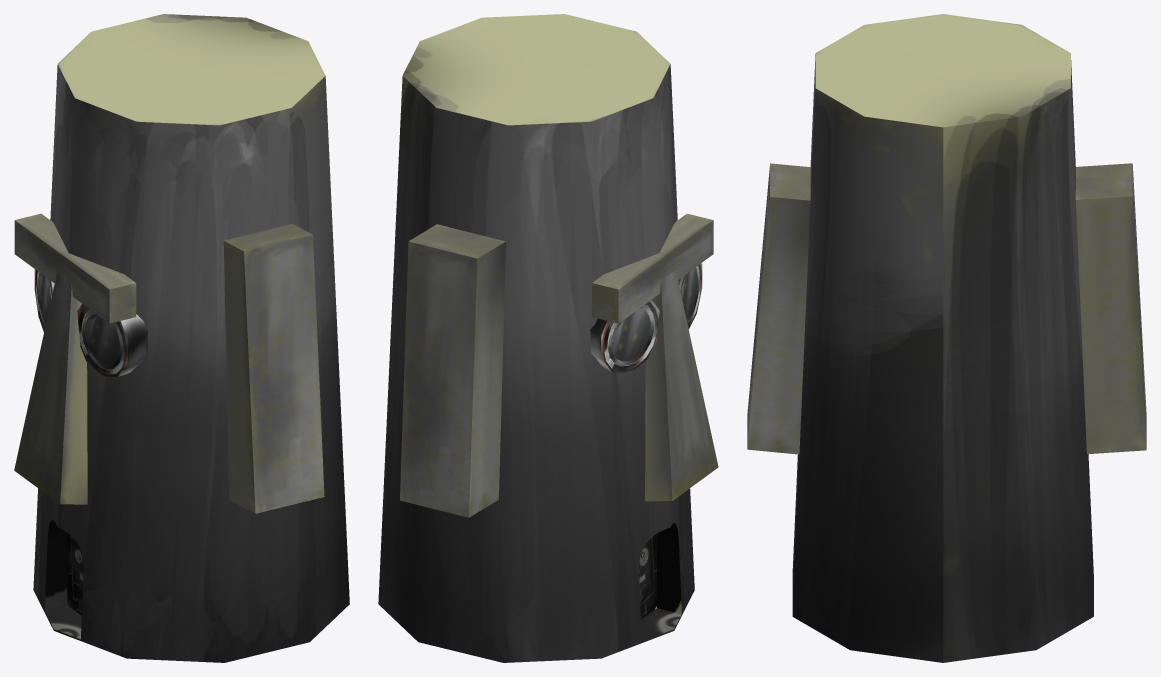
Rendered from 章魚歌的家的模型被拿來當作牆壁.FBX.
The picture shows the model from 3 angles, left to right: view 1: azimuth 30°, elevation 25°; view 2: azimuth 150°, elevation 25°; view 3: azimuth 270°, elevation 25°; orthographic projection.
Parts seen in each view (by area): view 1: Cylinder001, Box002, Box001, Box003, Cylinder002, Cylinder003; view 2: Cylinder001, Box004, Box001, Box003, Cylinder003, Cylinder002; view 3: Cylinder001, Box004, Box002.
Boxes of the visible parts, x1=… form: Cylinder001: x1=33, y1=14, x2=349, y2=662; Box002: x1=223, y1=223, x2=324, y2=513; Box001: x1=14, y1=274, x2=87, y2=504; Box003: x1=14, y1=213, x2=136, y2=323; Cylinder002: x1=77, y1=304, x2=147, y2=376; Cylinder003: x1=34, y1=269, x2=54, y2=331; Cylinder001: x1=378, y1=14, x2=694, y2=662; Box004: x1=400, y1=224, x2=505, y2=517; Box001: x1=645, y1=270, x2=718, y2=501; Box003: x1=592, y1=213, x2=713, y2=323; Cylinder003: x1=590, y1=300, x2=659, y2=372; Cylinder002: x1=678, y1=263, x2=702, y2=329; Cylinder001: x1=792, y1=14, x2=1093, y2=662; Box004: x1=1075, y1=163, x2=1146, y2=454; Box002: x1=747, y1=163, x2=810, y2=454.
Bounding box in the file's own units: 488 × 834 × 575.
1 material, 1 textured.
